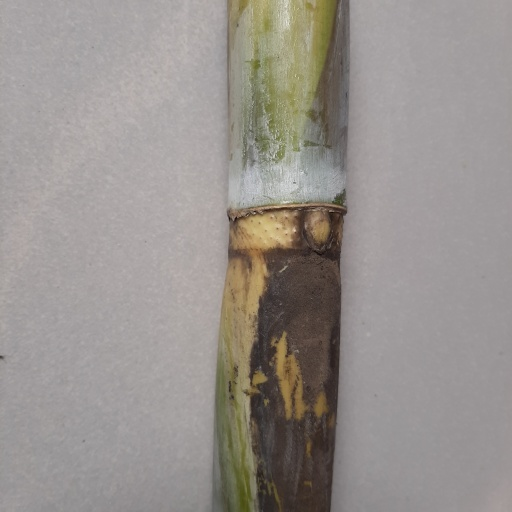Bud: (302, 207, 333, 256)
